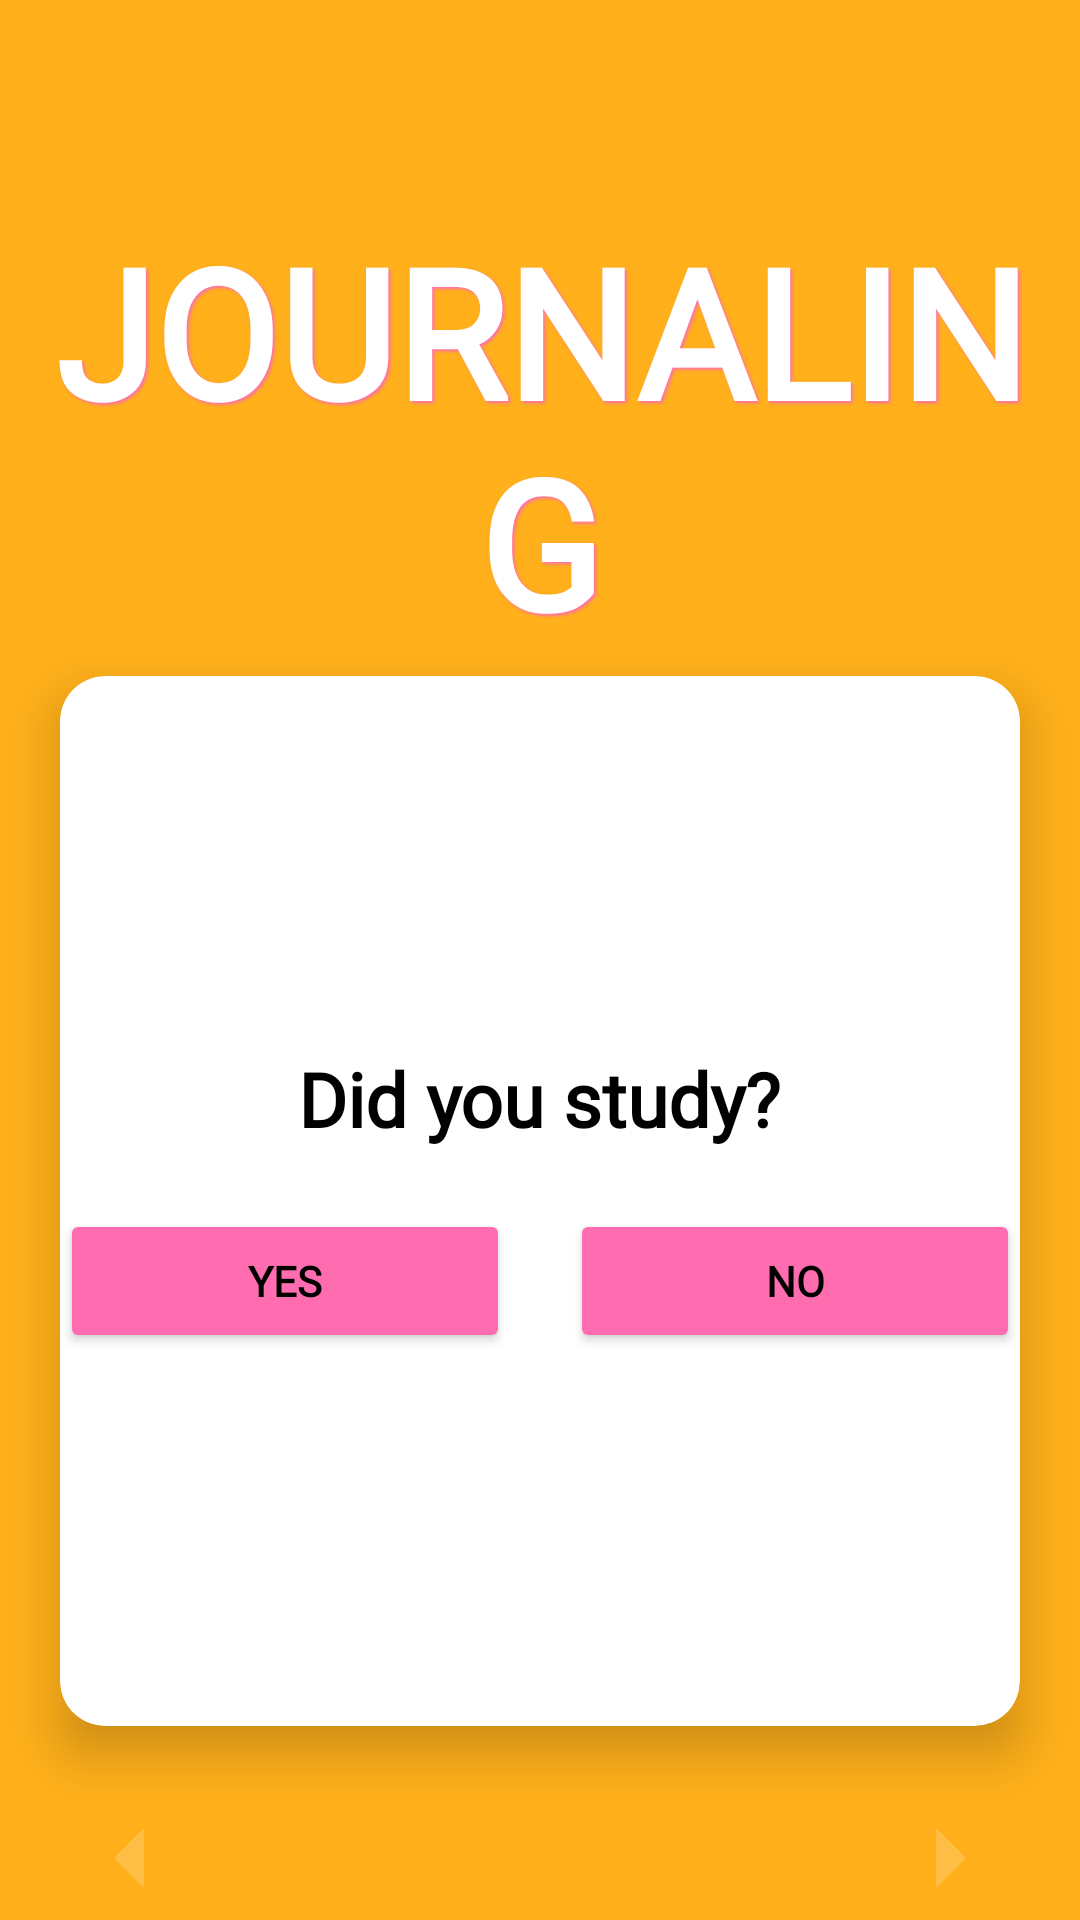

Locate icon controls on the screen. Image size 1080*1920, boxes as (x1, y1, x2, y2).
arrow left: (115, 1829, 144, 1887)
arrow right: (936, 1829, 965, 1887)
